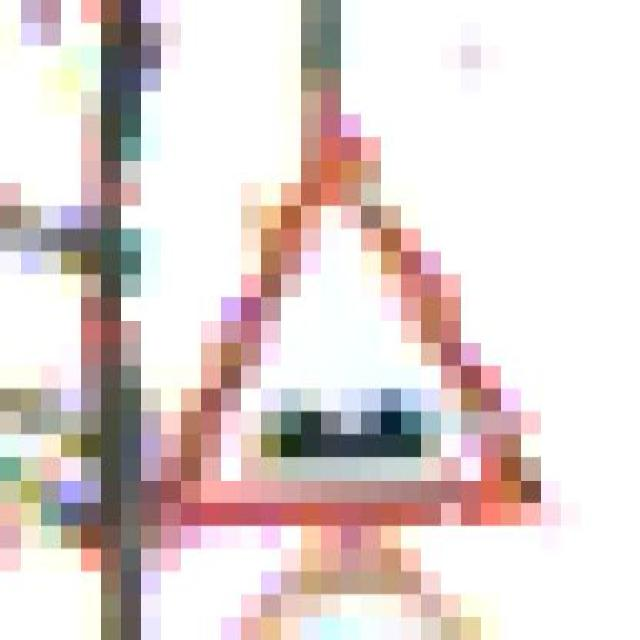Uneven Road: (140, 137, 560, 549)
